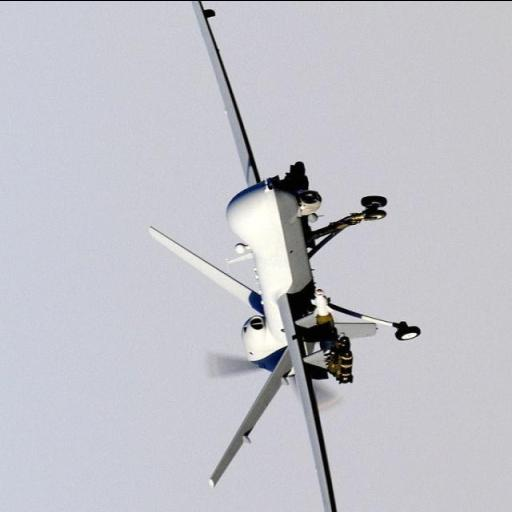uav: (145, 0, 421, 511)
